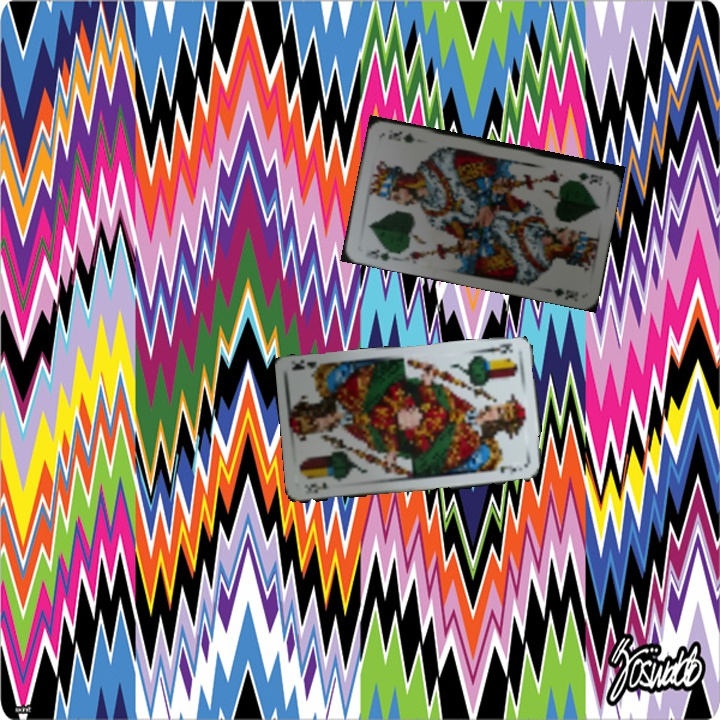EK: (477, 339, 515, 356), (300, 478, 330, 496)
GK: (362, 245, 399, 263), (574, 168, 605, 185)
